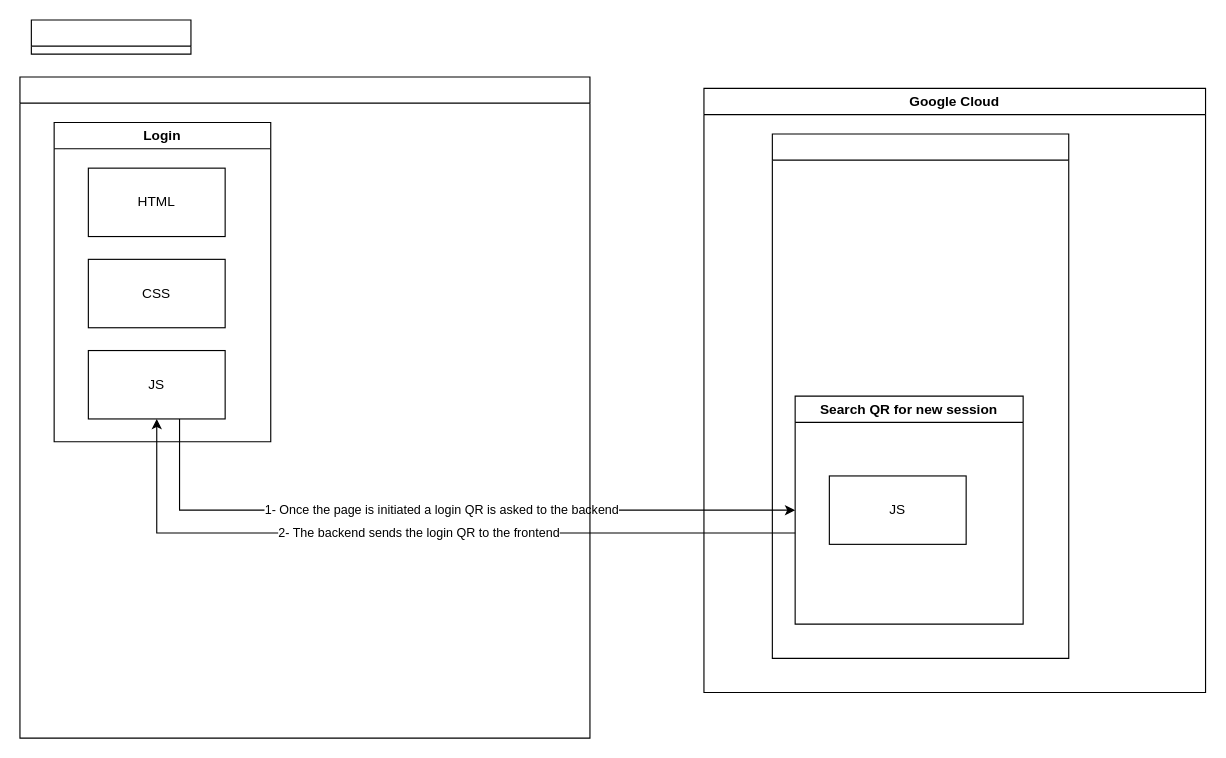
Some shapes in this 1226 by 758 pixel diagram are drawn without their labels. The shapes that lost their labels are listed below. From the top down, each one's box as (x1, y1, x2, y2) in pixels, then its label:
(30, 19, 191, 54): Standard Page
(19, 76, 590, 738): CloudFlare Pages
(771, 133, 1069, 658): Google functions
